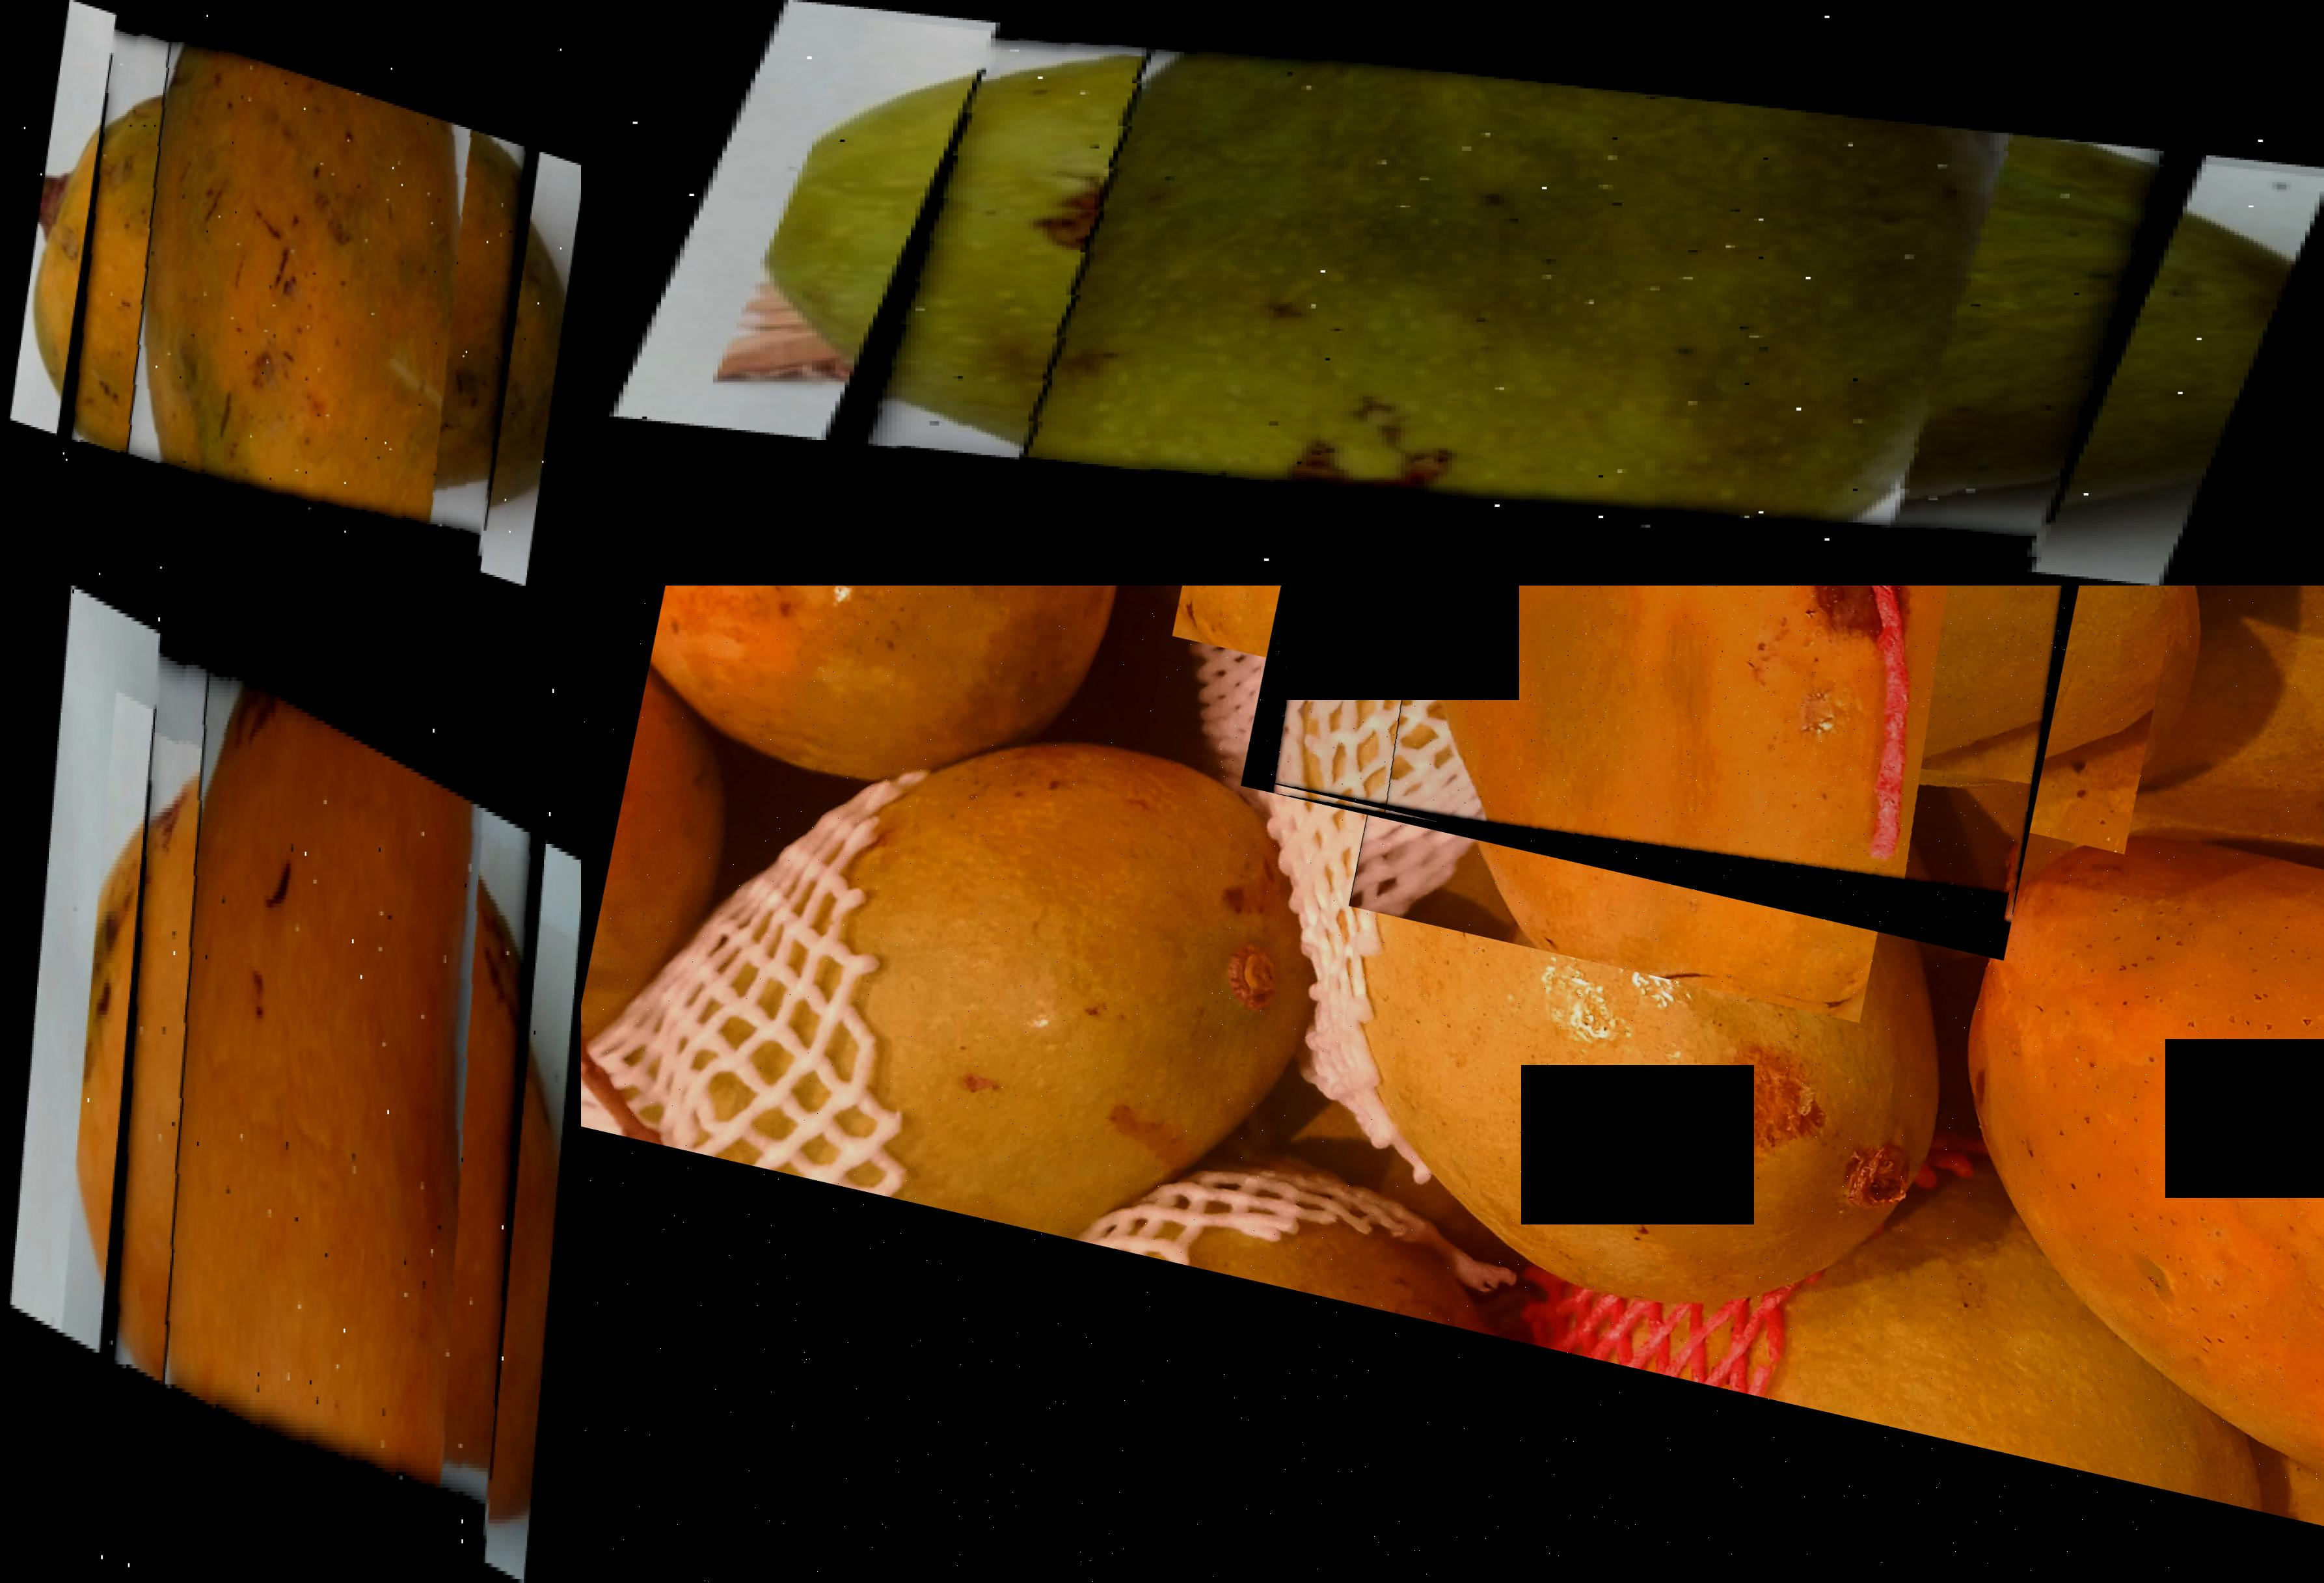PartiallyRipe: (49, 16, 542, 571)
Ripe: (92, 636, 549, 1562), (1231, 585, 2140, 951)
Unripe: (804, 23, 2218, 571)
